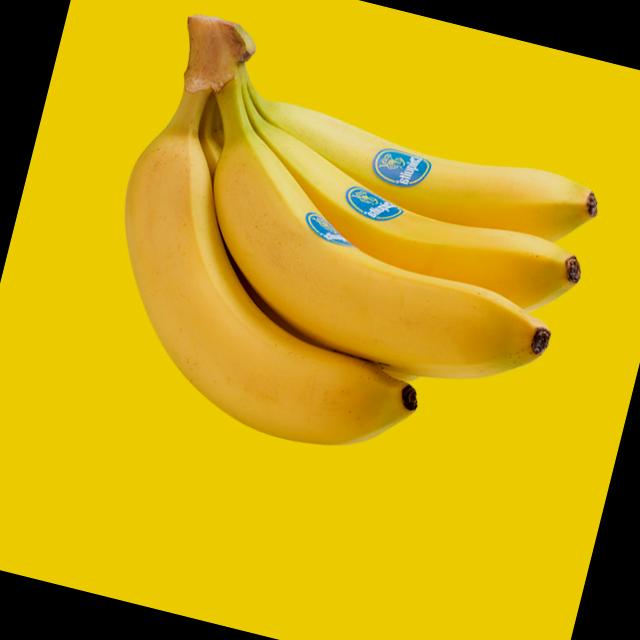banana: (63, 118, 471, 474), (158, 116, 595, 421), (191, 82, 613, 330), (209, 74, 622, 261)
